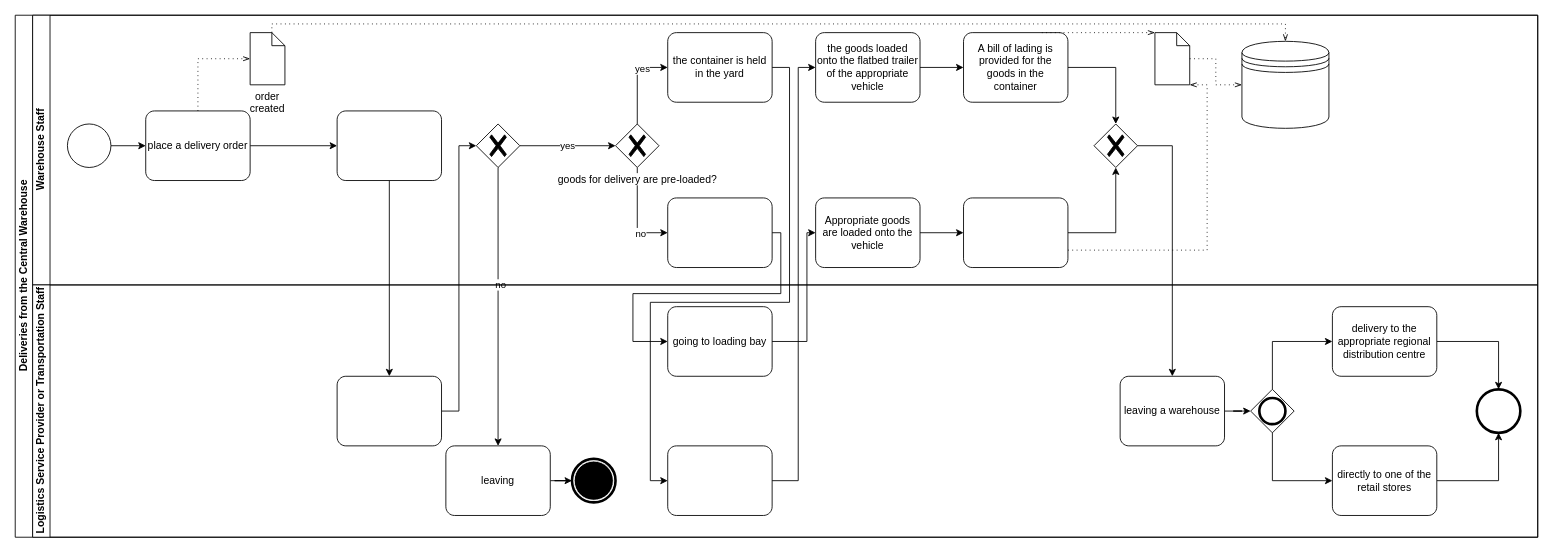
Some shapes in this 1553 by 552 pixel diagram are drawn without their labels. The centre of each missing label's shape, as x and y in pixels:
"A bill of lading" goes at (x=1172, y=58).
"A bill of lading is provided" goes at (x=1015, y=232).
"arrange a time slot for arrival" goes at (x=389, y=145).
"arrival expected?" goes at (x=497, y=145).
"arriving at the gate and check in" goes at (x=389, y=410).
"data stored in TMS and WMS" goes at (x=1285, y=84).
"direct the expected driver to the allocated loading bay" goes at (x=719, y=232).
"going to yard" goes at (x=719, y=480).
